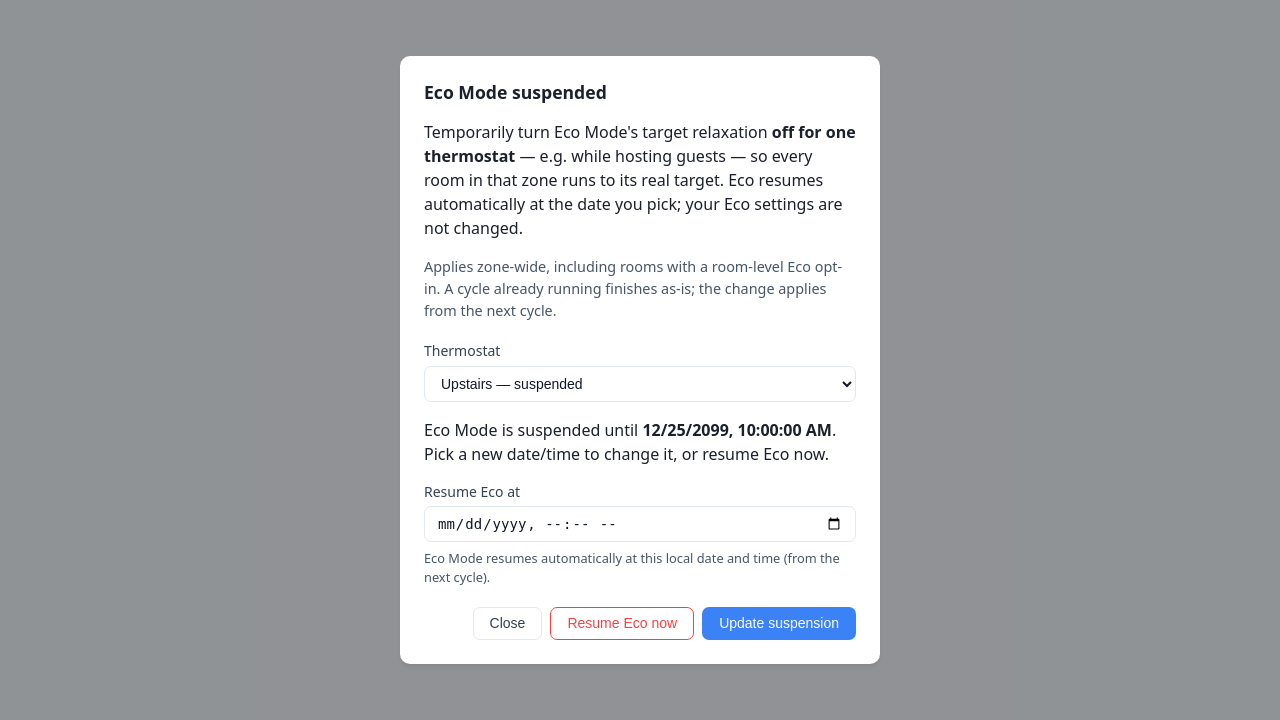
Test: EcoSuspendModal (Issue #500) › surfaces a resume-now failure as an inline error
The image size is (1280, 720).
What coordinates should you click on to do the following:
click the button "Resume Eco now"
I would click on:
 (622, 623)
Its box is top-left (550, 607), bottom-right (694, 640).
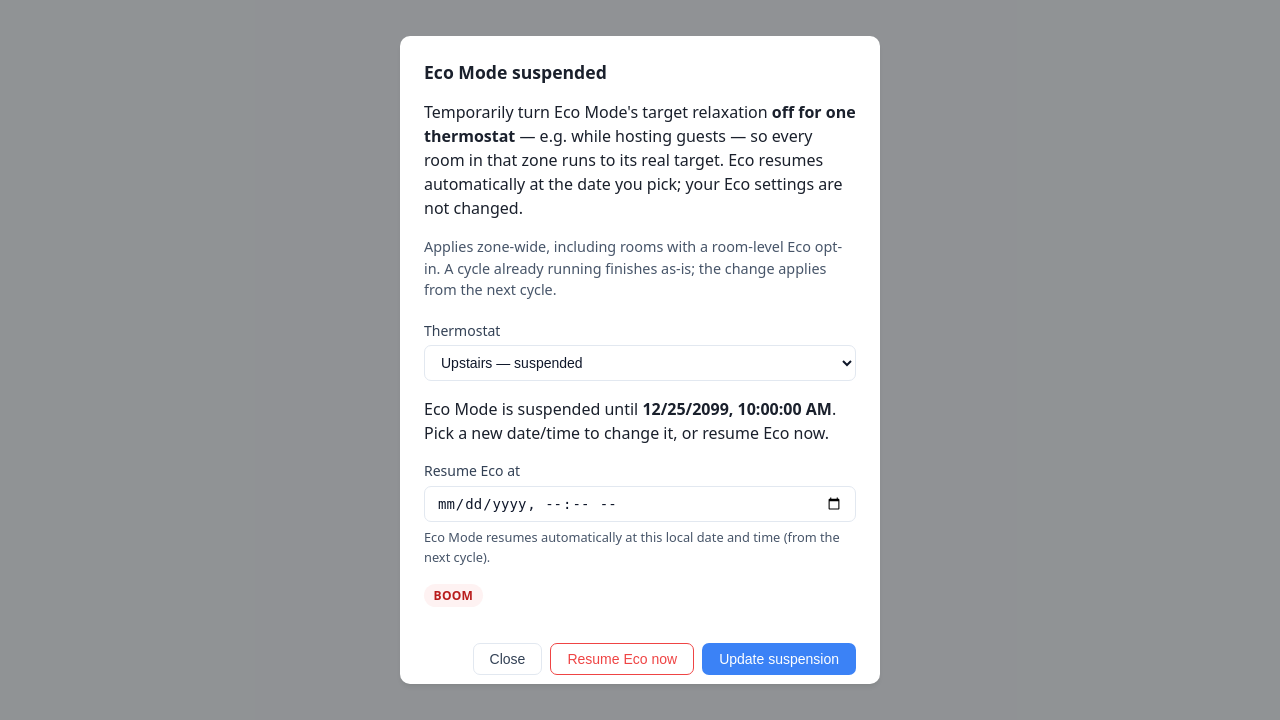
Check: the text "boom" is shown, box top-left (424, 584), bottom-right (483, 607)
